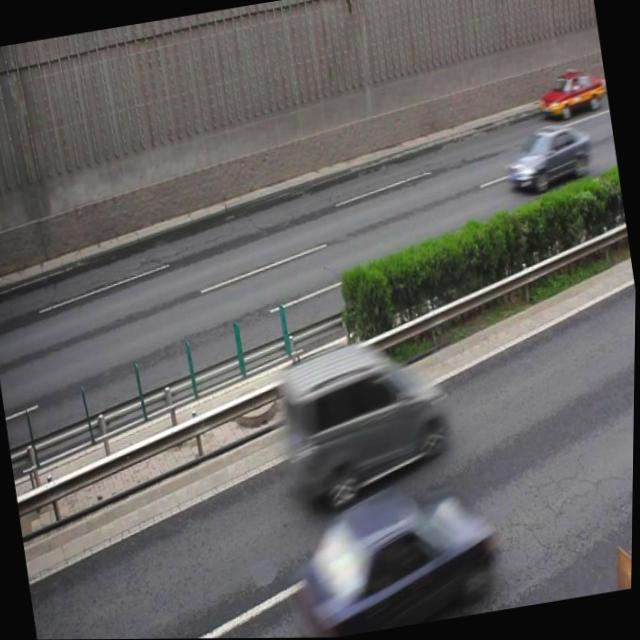car: (278, 472, 501, 638), (271, 331, 458, 508), (498, 118, 594, 195), (534, 67, 604, 123)
